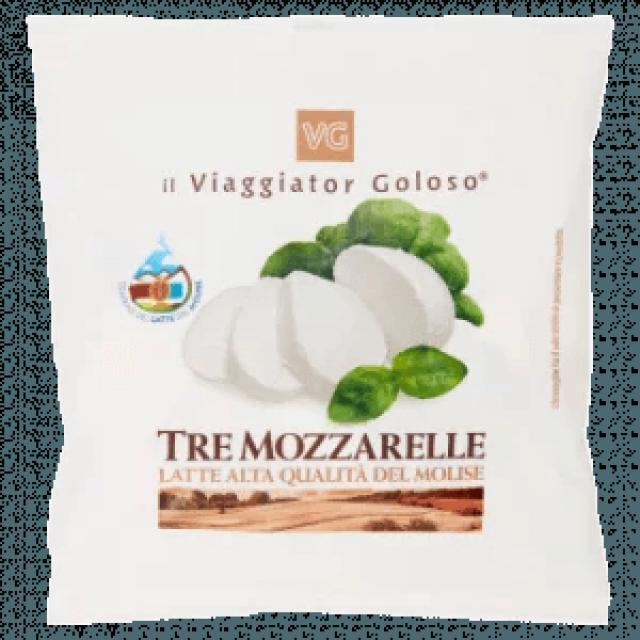Cheese: (26, 15, 614, 629)
